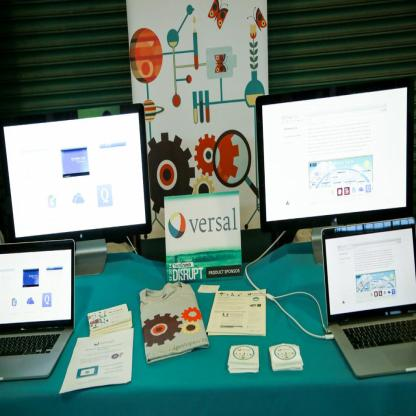board: (323, 209, 416, 376), (0, 240, 75, 382)
